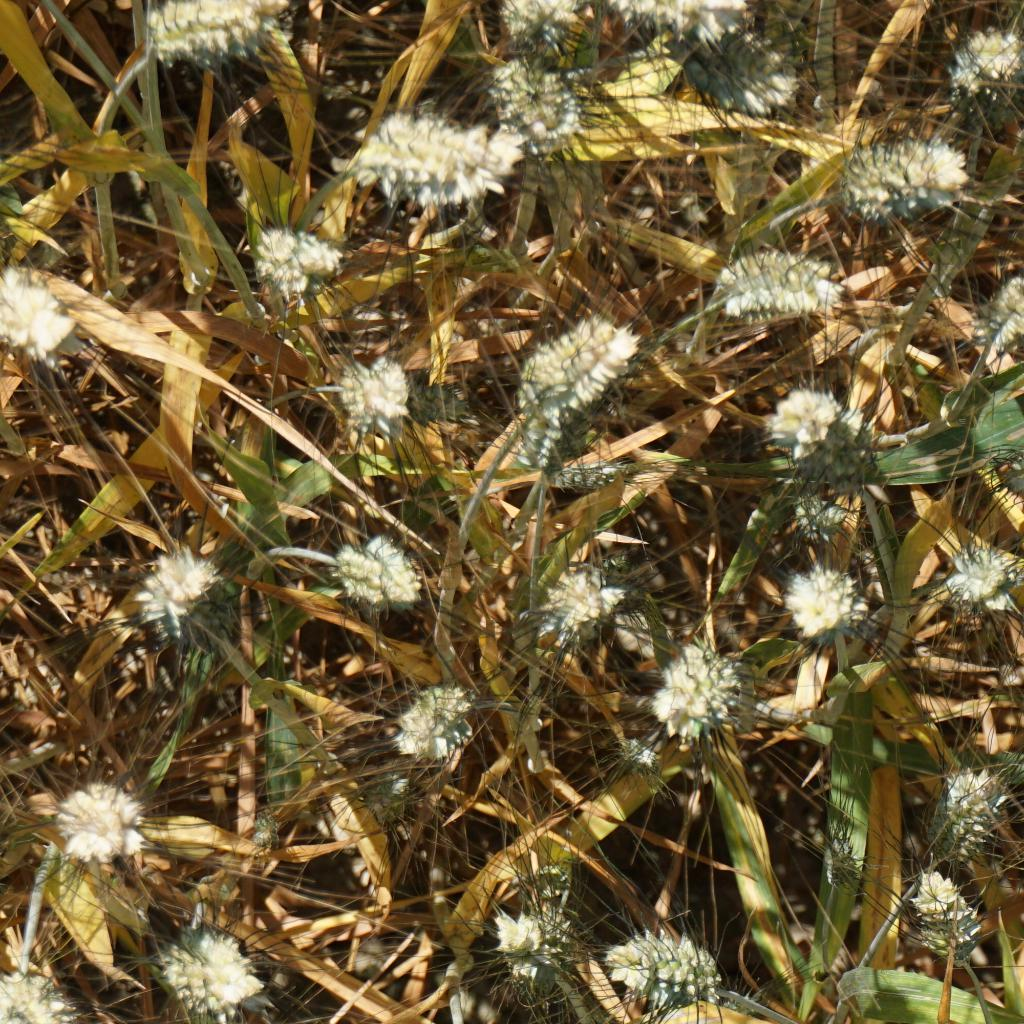0-0: (337, 94, 525, 218), (520, 552, 657, 662), (830, 131, 967, 230), (711, 241, 854, 329), (113, 527, 220, 643), (140, 0, 292, 77), (646, 636, 752, 744), (376, 666, 491, 764), (603, 923, 717, 1013), (679, 30, 810, 108), (164, 922, 265, 1021), (316, 335, 420, 429), (240, 209, 346, 294), (480, 56, 583, 143), (777, 553, 870, 647), (331, 536, 440, 614), (486, 909, 573, 1004), (47, 776, 140, 862), (931, 761, 1009, 859), (911, 866, 984, 965), (0, 261, 72, 361), (951, 18, 1024, 104), (943, 531, 1024, 606), (766, 380, 866, 440), (615, 0, 760, 38), (570, 326, 633, 411), (515, 319, 585, 394), (499, 389, 564, 468), (0, 961, 81, 1024), (495, 0, 588, 51), (518, 849, 575, 931), (539, 453, 642, 498), (795, 428, 871, 485), (968, 275, 1024, 349), (778, 489, 853, 544), (605, 728, 656, 784), (713, 975, 778, 1017), (367, 771, 419, 822), (819, 841, 869, 894), (244, 800, 291, 856), (418, 380, 466, 421), (998, 431, 1024, 496), (0, 183, 20, 263)
